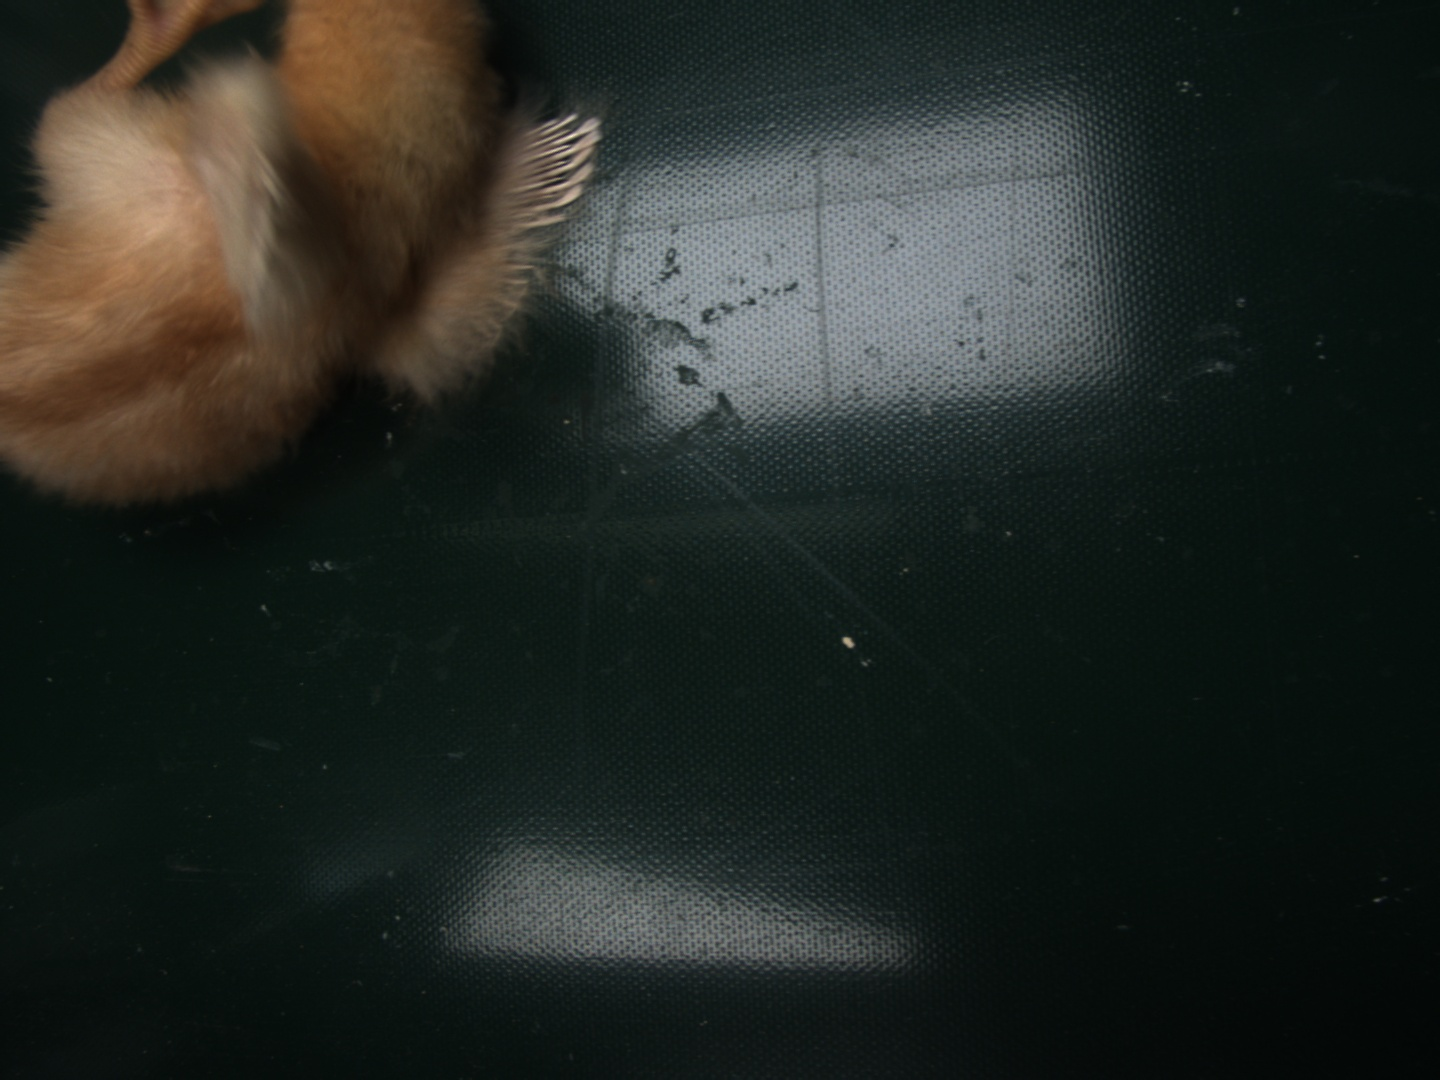female: (507, 115, 598, 237)
